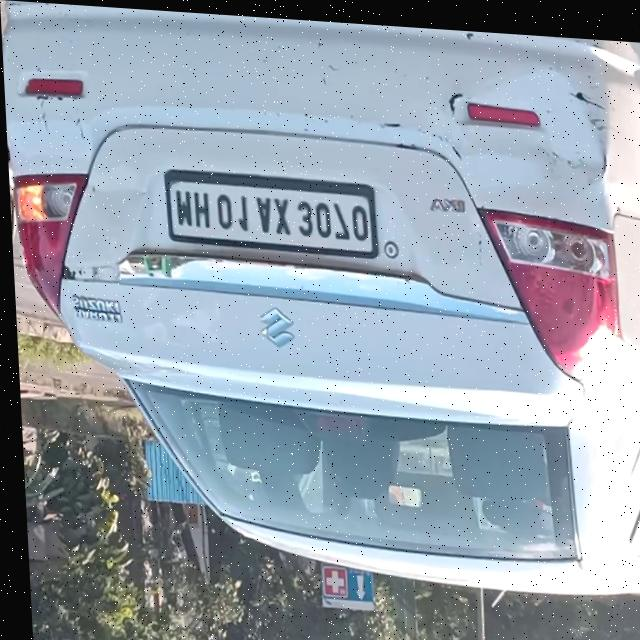plate: (161, 168, 377, 256)
